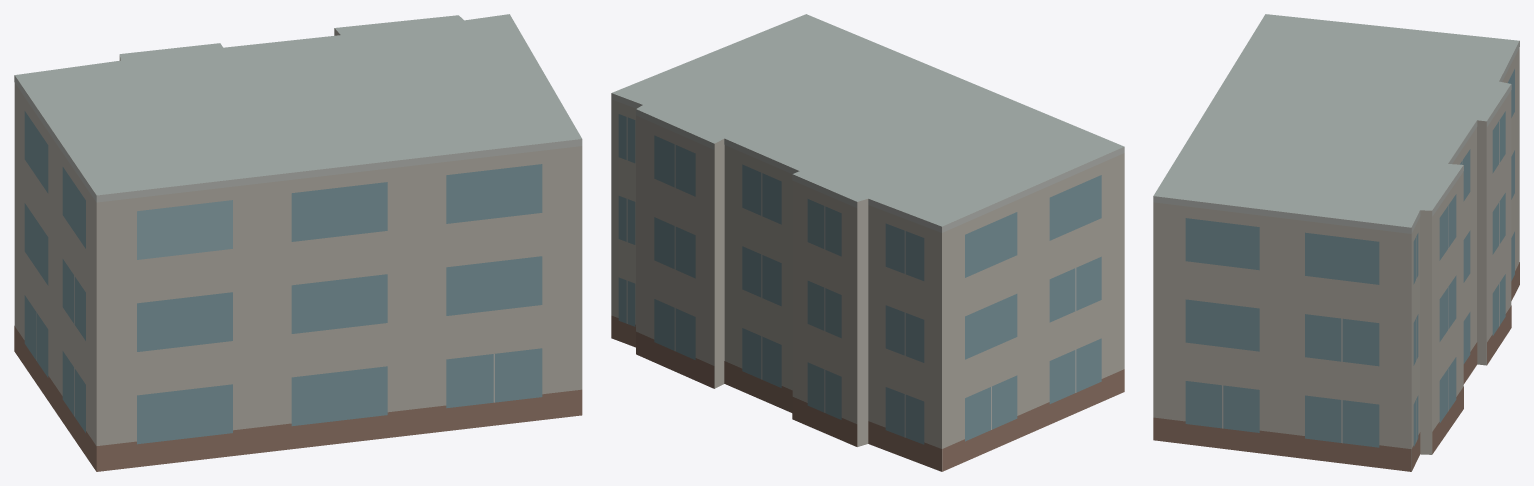
The model's file is survey-upis-32954642.glb.
3 renders of one model, left to right at view 1: azimuth 30°, elevation 25°; view 2: azimuth 150°, elevation 25°; view 3: azimuth 270°, elevation 25°, orthographic. The views are drawn at different scales.
Parts seen in each view (by area): view 1: survey-upis-32954642.tmp; view 2: survey-upis-32954642.tmp; view 3: survey-upis-32954642.tmp.
Part boxes in pixels (x1,y1,x2,y2): survey-upis-32954642.tmp: (14, 14, 582, 471); survey-upis-32954642.tmp: (611, 14, 1124, 471); survey-upis-32954642.tmp: (1153, 14, 1519, 471).
Bounding box in the file's own units: 17.84 × 9.5 × 12.93.
